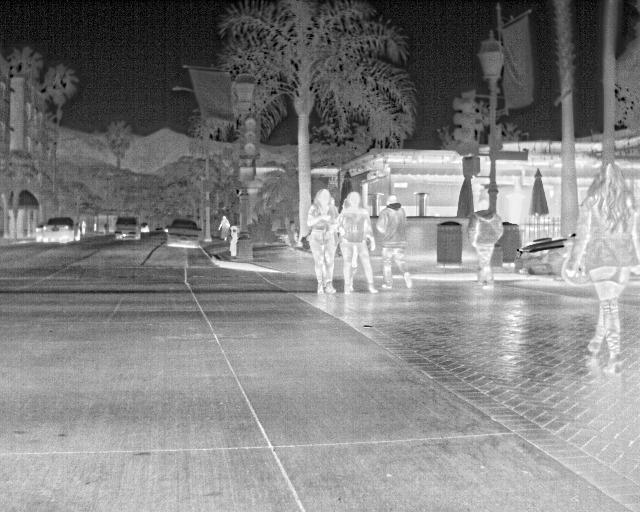bicycle: (515, 233, 576, 278), (161, 217, 203, 251), (38, 217, 82, 247), (114, 216, 142, 245), (138, 221, 151, 235)
empty: (575, 161, 638, 371), (330, 191, 378, 298), (374, 195, 416, 292), (465, 194, 506, 289), (302, 189, 338, 297), (218, 213, 232, 242)
